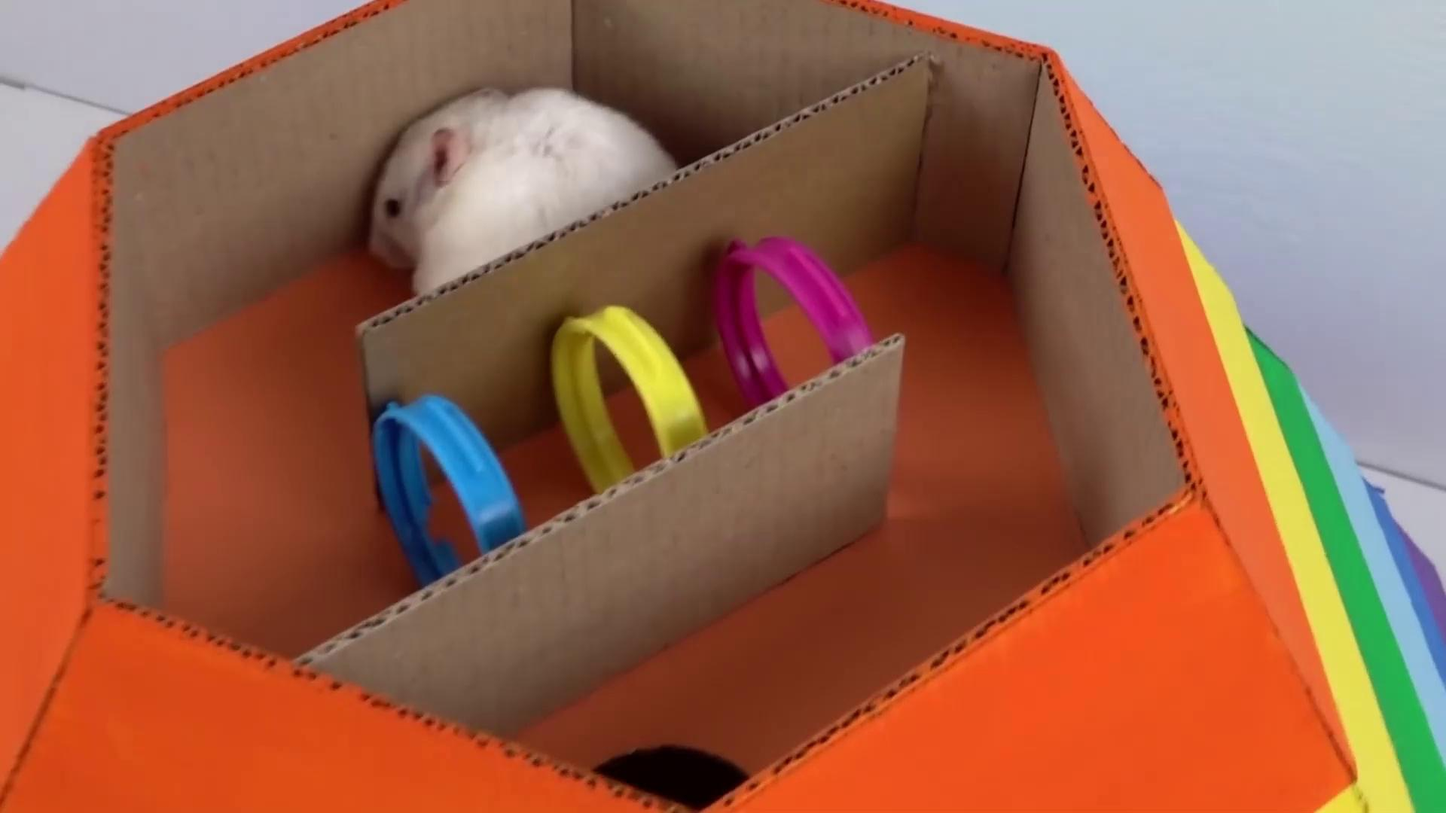rat: (368, 85, 679, 296)
